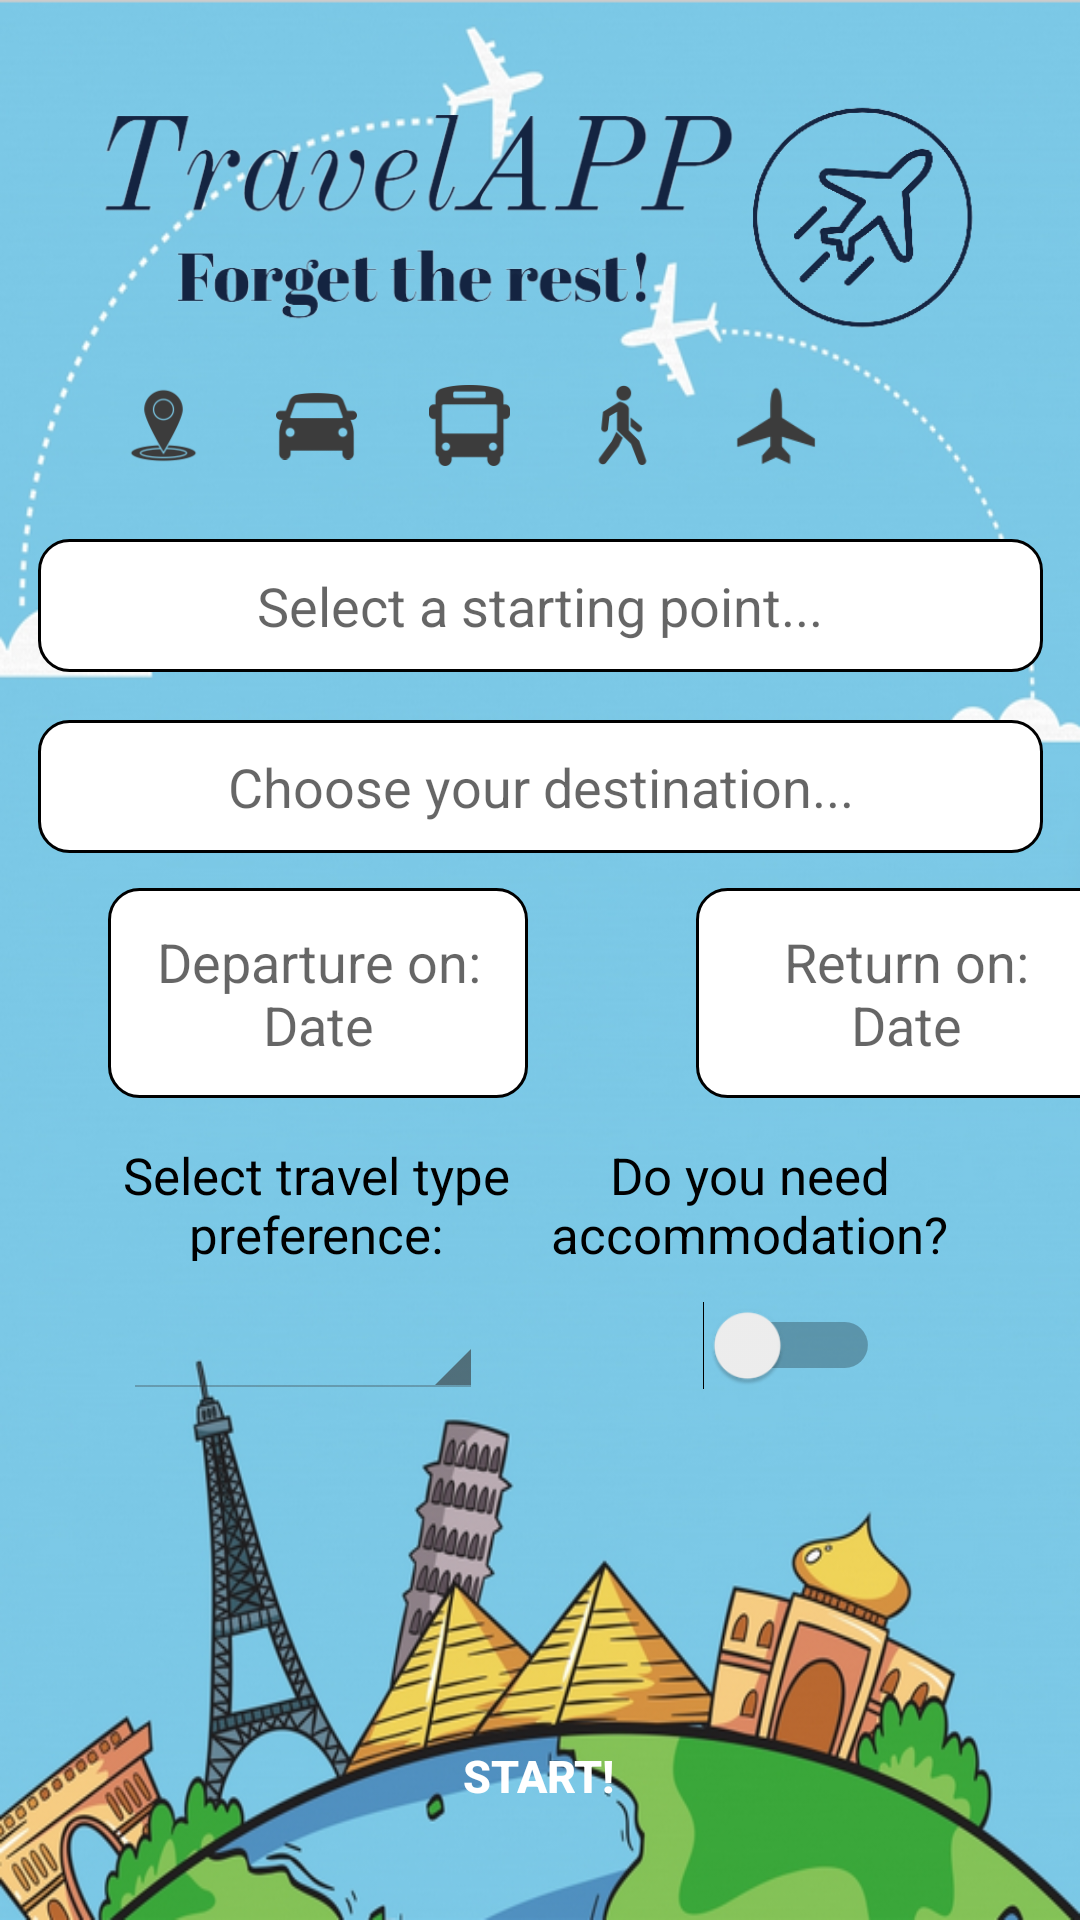

Locate icon controls on the screen. Image size 1080px x 1920px, boxes as {"left": x1, "top": y1, "right": x2, "bottom": y2}.
car: {"left": 276, "top": 393, "right": 357, "bottom": 460}
plane: {"left": 737, "top": 387, "right": 815, "bottom": 464}
pointer: {"left": 131, "top": 390, "right": 196, "bottom": 461}
public transport: {"left": 429, "top": 385, "right": 510, "bottom": 466}
walk: {"left": 598, "top": 385, "right": 647, "bottom": 465}
